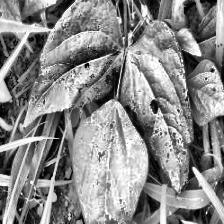ALS: (116, 21, 201, 197), (24, 0, 123, 128), (64, 97, 147, 224)
